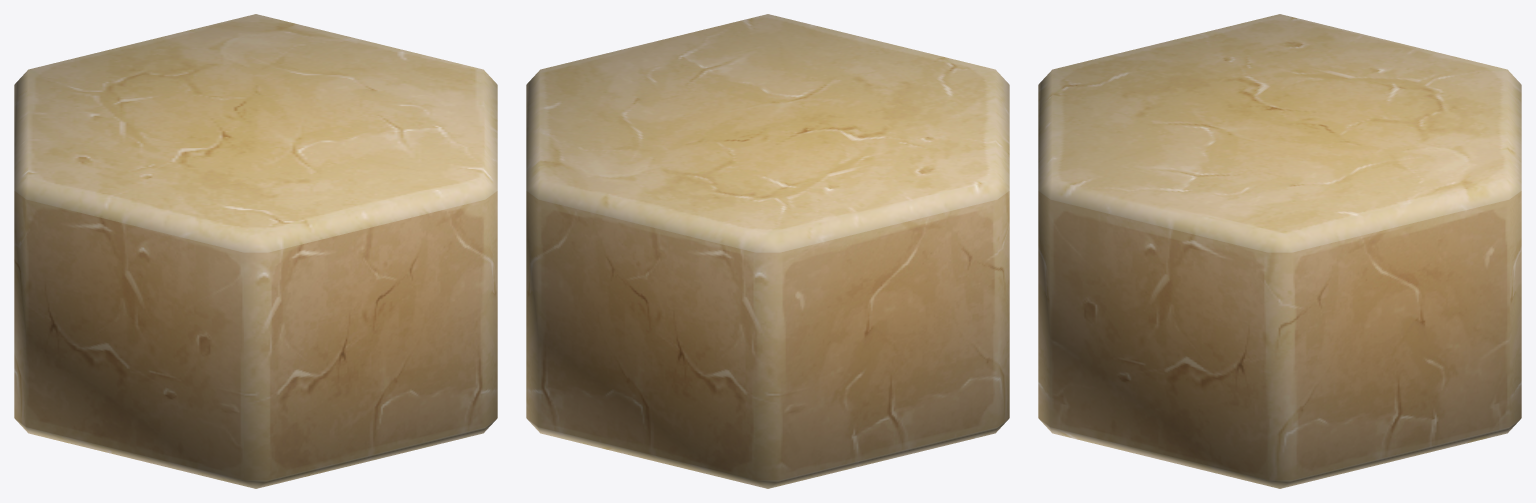
File: DE_House_Mod_Part_52.fbx
The picture shows the model from 3 angles, left to right: view 1: azimuth 30°, elevation 25°; view 2: azimuth 150°, elevation 25°; view 3: azimuth 270°, elevation 25°; orthographic projection.
Parts seen in each view (by area): view 1: DE_House_Mod_Part_52; view 2: DE_House_Mod_Part_52; view 3: DE_House_Mod_Part_52.
Part boxes in pixels (left/top/right/bottom): DE_House_Mod_Part_52: left=14, top=14, right=497, bottom=488; DE_House_Mod_Part_52: left=526, top=14, right=1009, bottom=488; DE_House_Mod_Part_52: left=1038, top=14, right=1521, bottom=488.
Bounding box in the file's own units: 1.79 × 0.9192 × 1.59.
